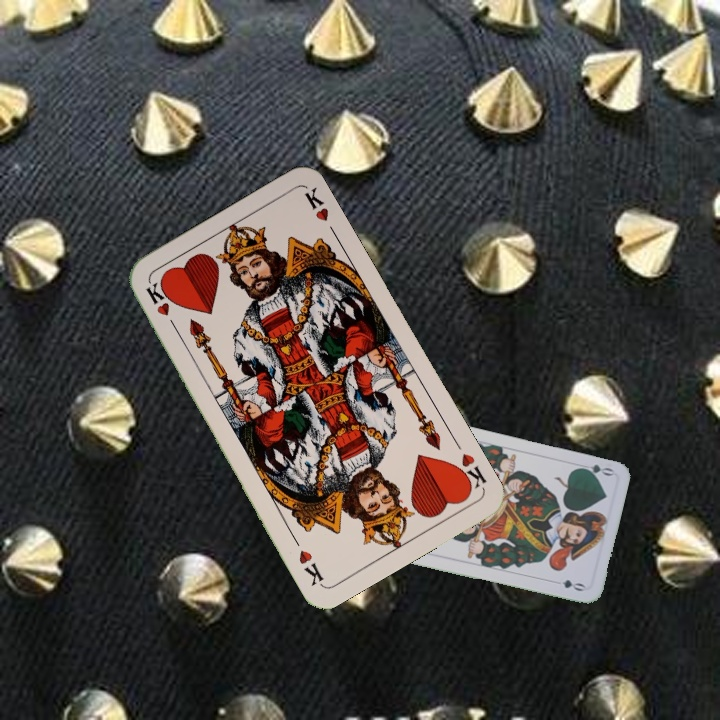GO: (574, 460, 615, 479)
HK: (142, 277, 181, 334), (450, 449, 489, 496)
